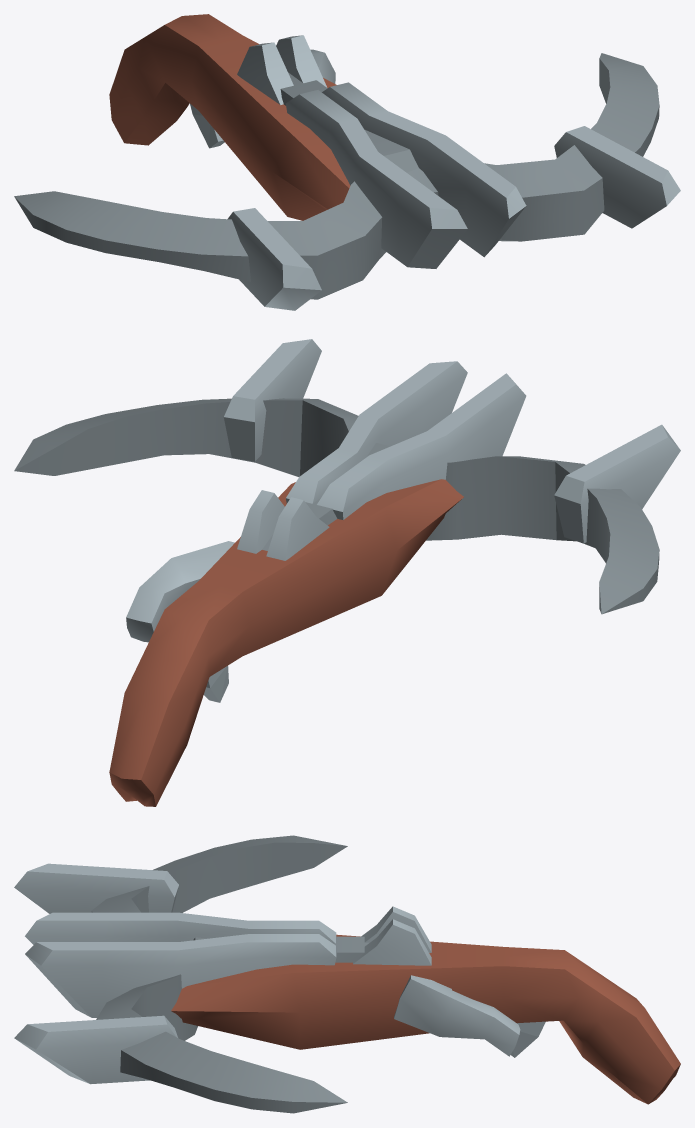
Rendered from goblin_crossbow.dae.
3 views of the same model, one above another, from view 1: azimuth 30°, elevation 25°; view 2: azimuth 150°, elevation 25°; view 3: azimuth 270°, elevation 25° (orthographic). The views are drawn at different scales.
Visible parts, largest first — view 1: goblin_crossbow; view 2: goblin_crossbow; view 3: goblin_crossbow.
Boxes of the visible parts, box(x1,y1,x2,y2) form: goblin_crossbow: box(14, 14, 680, 310); goblin_crossbow: box(14, 339, 680, 806); goblin_crossbow: box(14, 835, 680, 1113).
Bounding box in the file's own units: 0.785 × 0.8304 × 0.2502.
